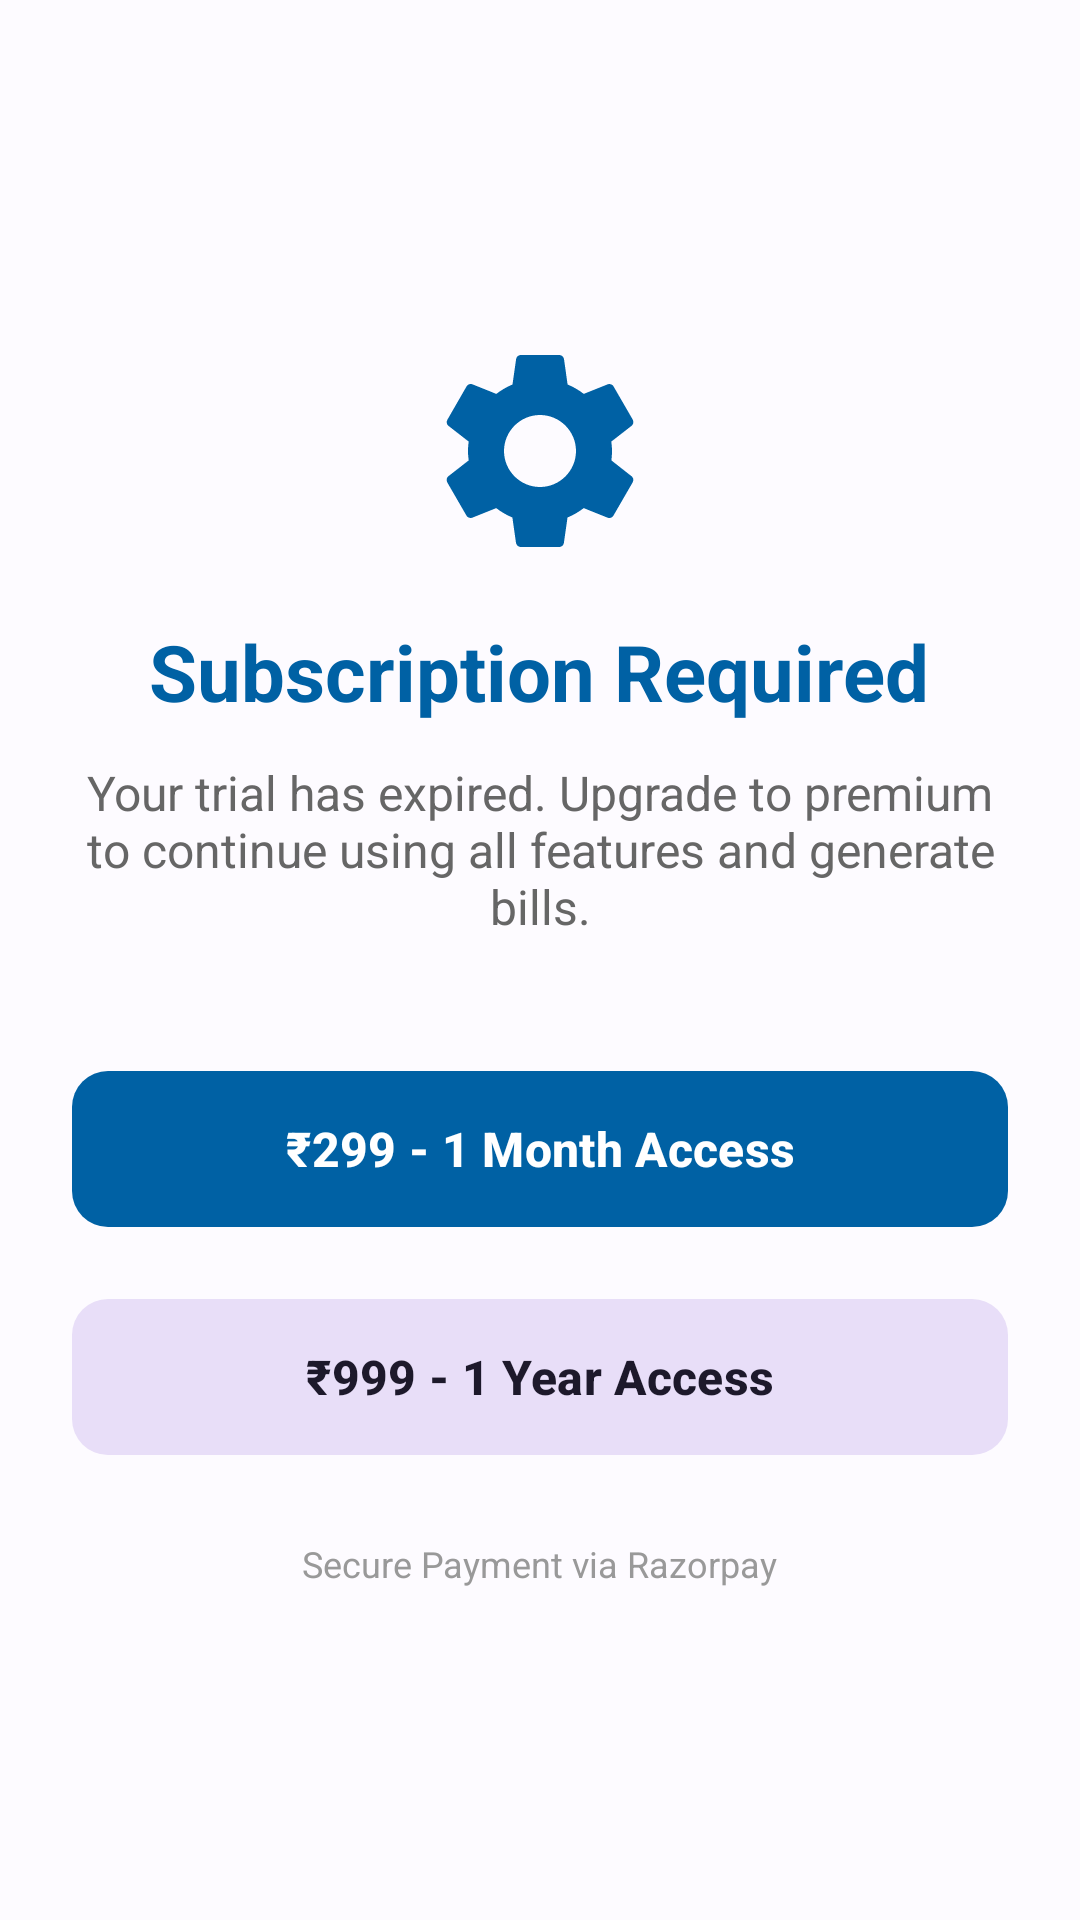

Named icons in this screenshot (1080w x 1920h) and their bounding boxes, rect(x1, y1, x2, y2):
settings: rect(446, 355, 634, 547)
